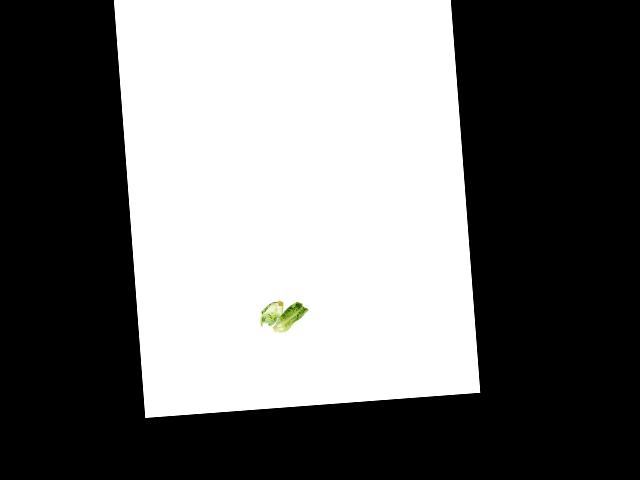lettuce: (257, 293, 308, 335)
